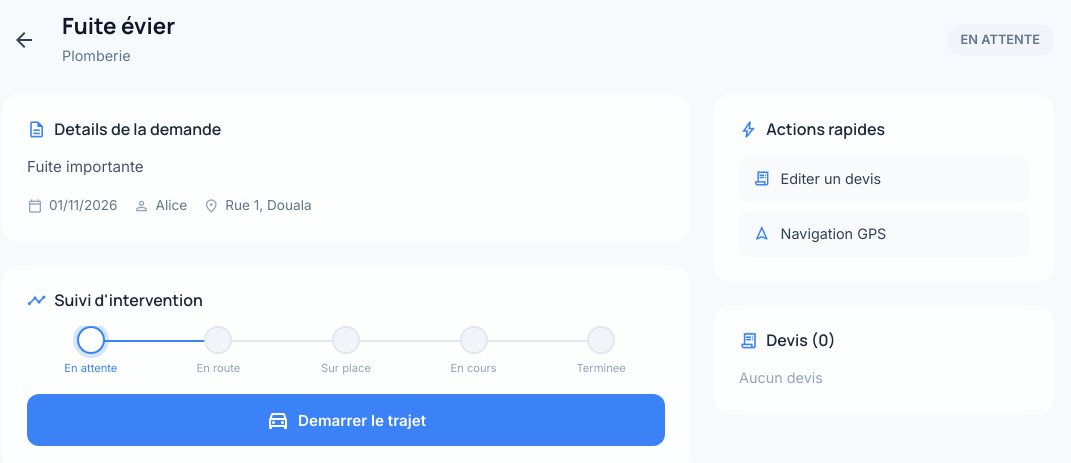
Scenario: MissionDetail › depuis « pending », l'action « Demarrer le trajet » demande le statut « en_route »
The image size is (1071, 463).
Click the button "Demarrer le trajet": (346, 420) x1=27 y1=394 x2=665 y2=446
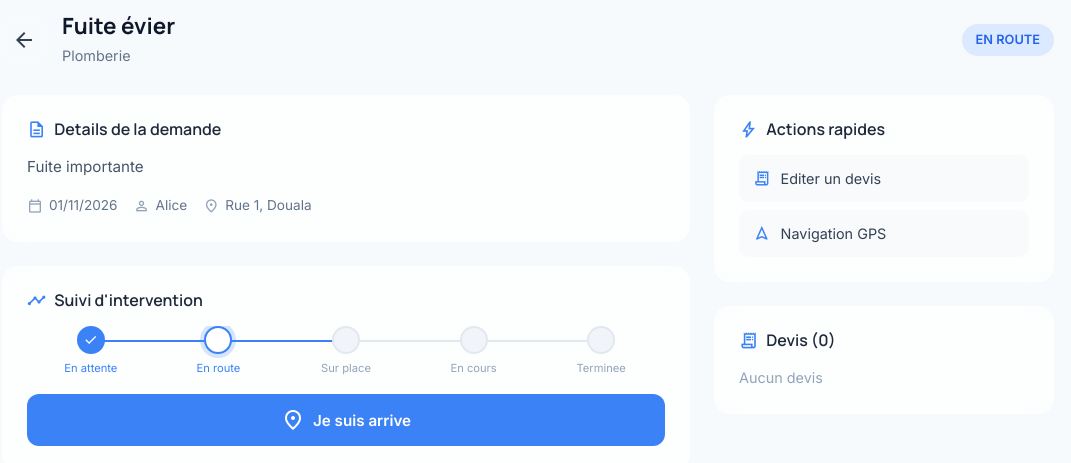
Check: the text with class "md-status-pill" reads "En route", box x1=976 y1=32 x2=1040 y2=47
